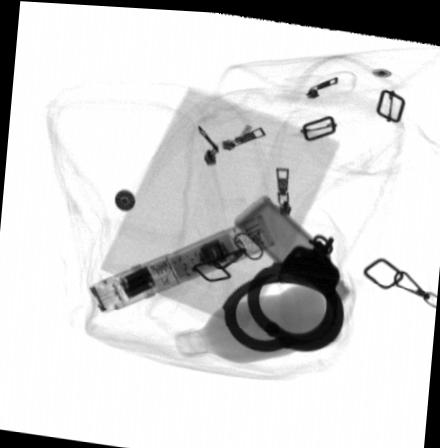Baton: (86, 209, 274, 313)
HandCuffs: (219, 228, 344, 350)
